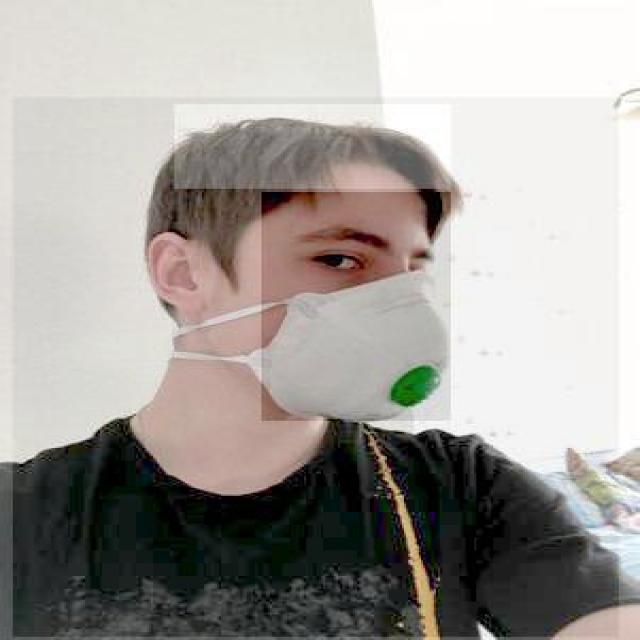face_mask: (262, 192, 450, 421)
head_nohelmet: (174, 104, 453, 190)
person: (13, 97, 621, 638)
